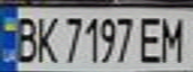1: (81, 14, 100, 63)
7: (60, 12, 84, 64), (115, 13, 139, 64)
9: (97, 13, 118, 64)
B: (9, 12, 42, 64)
E: (136, 12, 166, 64)
K: (33, 12, 60, 64)
M: (157, 12, 190, 63)
